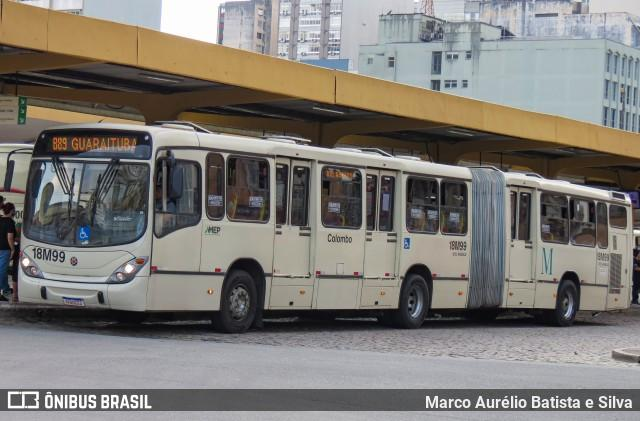GUARAITUBA: (68, 135, 140, 155)
